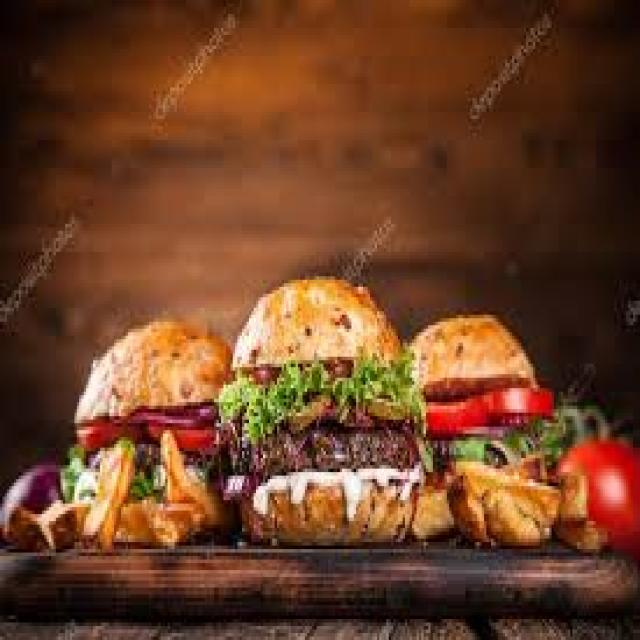Burger: (434, 305, 633, 570), (237, 290, 428, 550), (72, 302, 232, 575)
